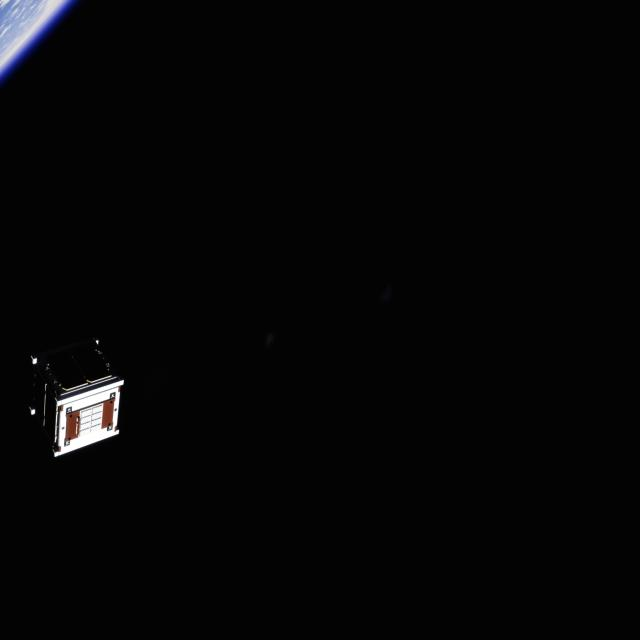satellite: (14, 332, 128, 459)
